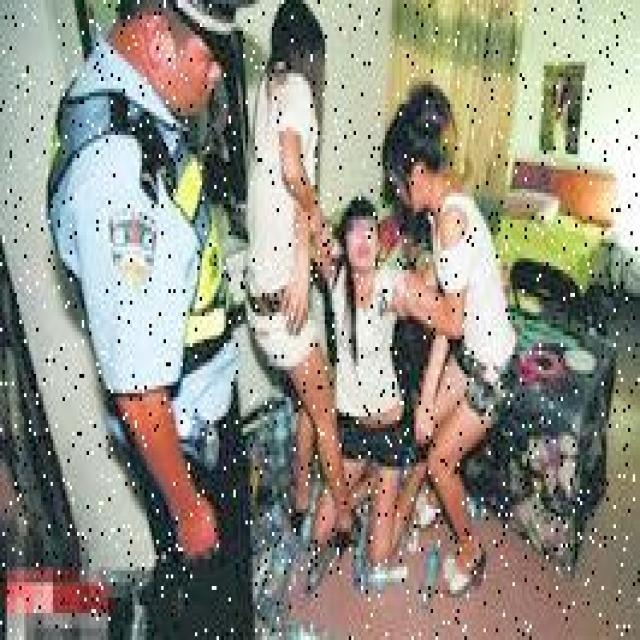fall: (334, 184, 406, 552)
